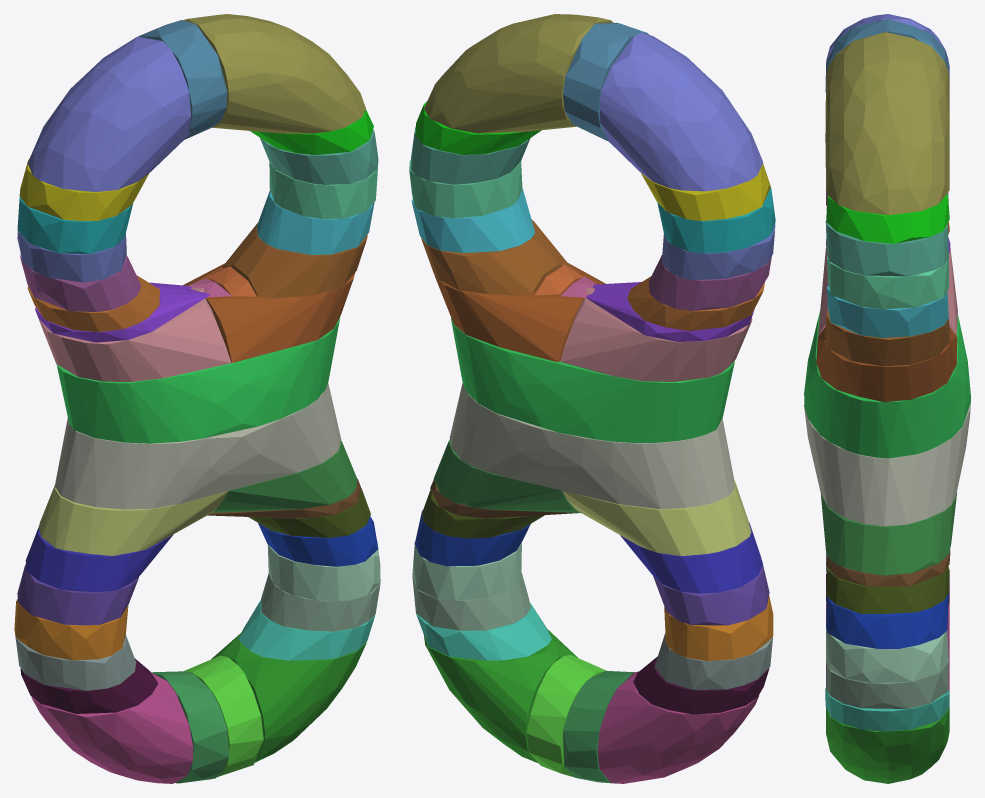
File: obstacles_easy.obj
3 renders of one model, left to right at view 1: azimuth 30°, elevation 25°; view 2: azimuth 150°, elevation 25°; view 3: azimuth 270°, elevation 25°, orthographic. The views are drawn at different scales.
Visible parts, largest first — view 1: eight_ACD.038_eight_ACD; view 2: eight_ACD.038_eight_ACD; view 3: eight_ACD.038_eight_ACD.
Part boxes in pixels (x1,y1,x2,y2): eight_ACD.038_eight_ACD: (14, 14, 380, 783); eight_ACD.038_eight_ACD: (409, 14, 775, 783); eight_ACD.038_eight_ACD: (804, 14, 970, 783).
Bounding box in the file's own units: 575 × 1194 × 246.
